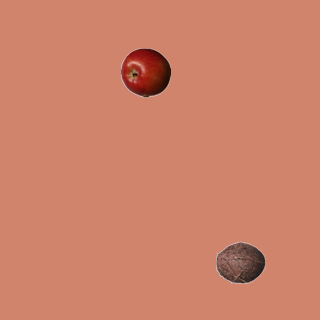Apple Braeburn: (120, 47, 170, 97)
Cocos: (215, 237, 265, 287)
